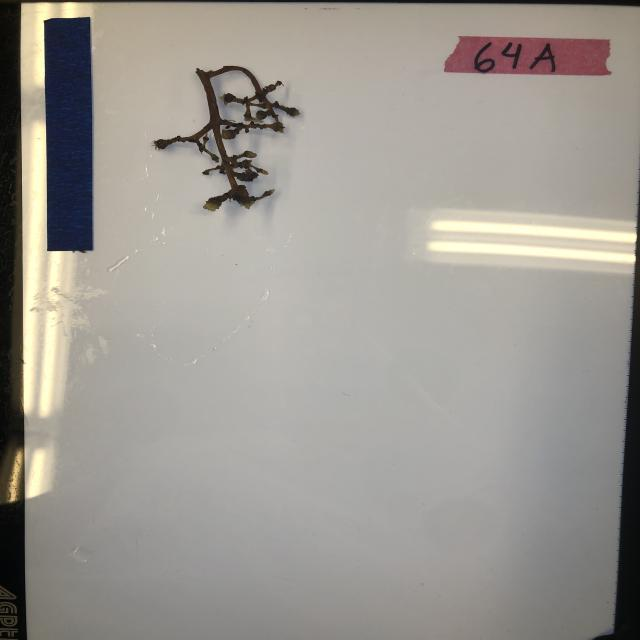index: (441, 34, 617, 77)
measure_label: (40, 13, 98, 254)
rachis_cluster: (149, 59, 303, 217)
